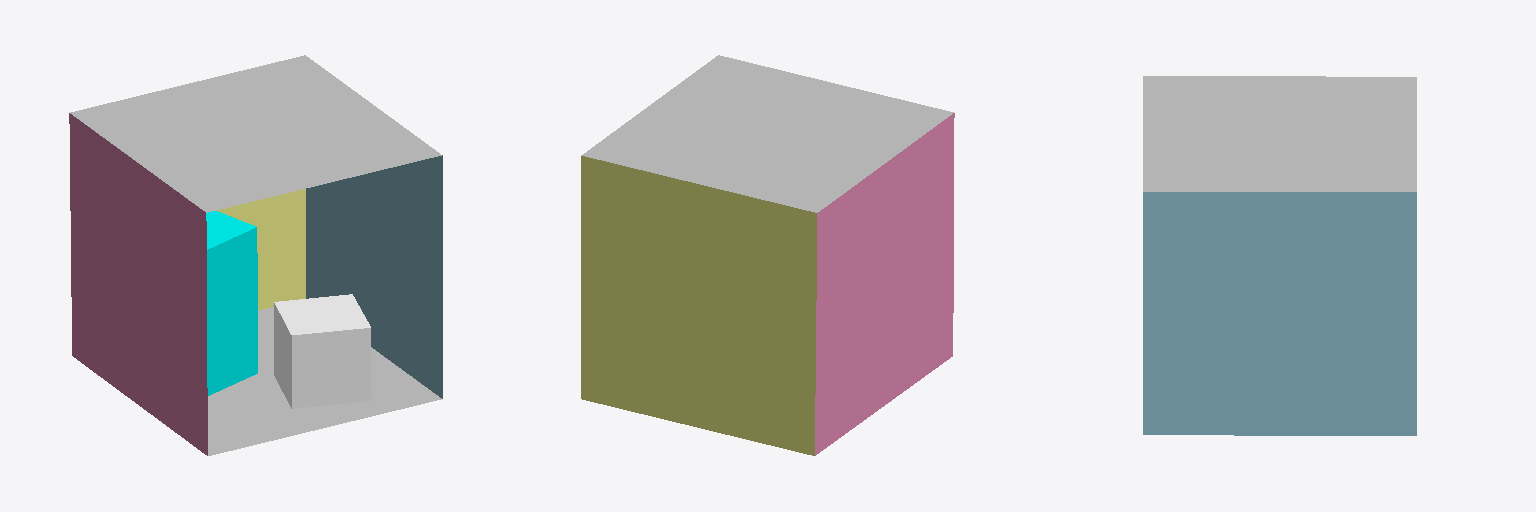
File: cornell-box-texture.obj
3 renders of one model, left to right at view 1: azimuth 30°, elevation 25°; view 2: azimuth 150°, elevation 25°; view 3: azimuth 270°, elevation 25°, orthographic.
Visible parts, largest first — view 1: left_wall, ceiling, right_wall, floor, short_box, tall_box, back_wall; view 2: back_wall, left_wall, ceiling; view 3: right_wall, ceiling.
Part boxes in pixels (x1,y1,x2,y2): left_wall: (69, 113, 207, 455); ceiling: (70, 55, 441, 212); right_wall: (306, 155, 442, 398); floor: (208, 307, 441, 455); short_box: (274, 294, 371, 408); tall_box: (206, 211, 257, 395); back_wall: (216, 189, 305, 310); back_wall: (581, 156, 816, 455); left_wall: (815, 113, 954, 455); ceiling: (581, 55, 953, 212); right_wall: (1143, 192, 1416, 435); ceiling: (1143, 76, 1416, 191).
Size of the model in its own units: 5.56 by 5.49 by 5.6.